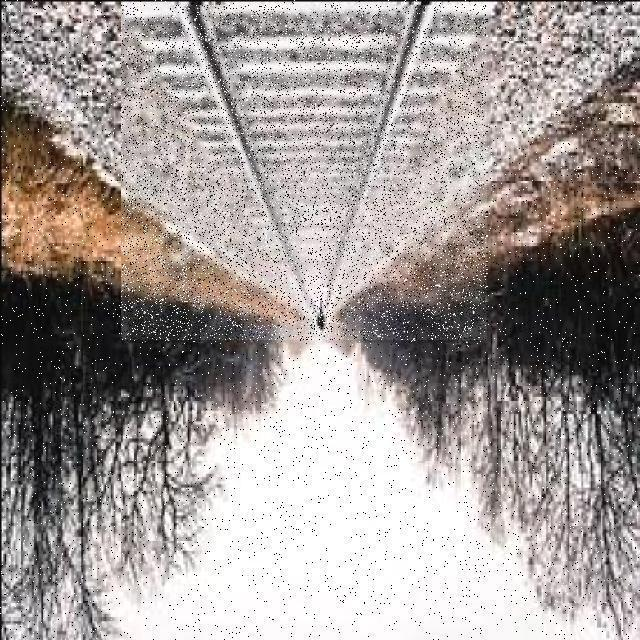rail: (122, 6, 488, 341)
